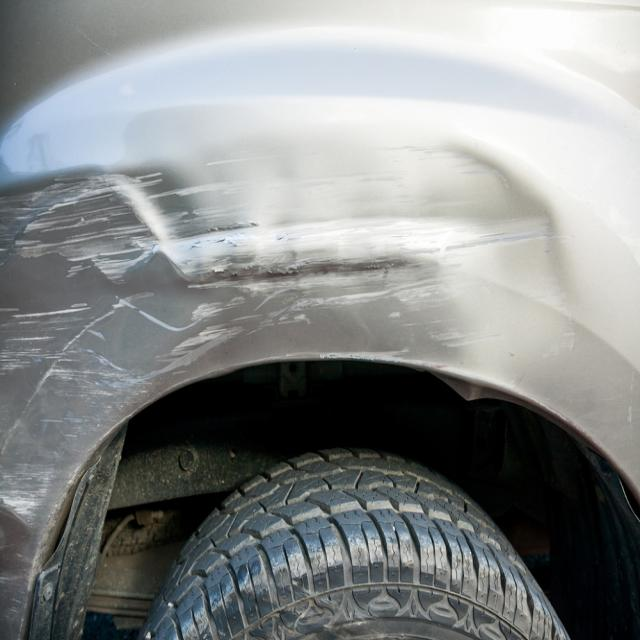dent: (0, 125, 573, 537)
